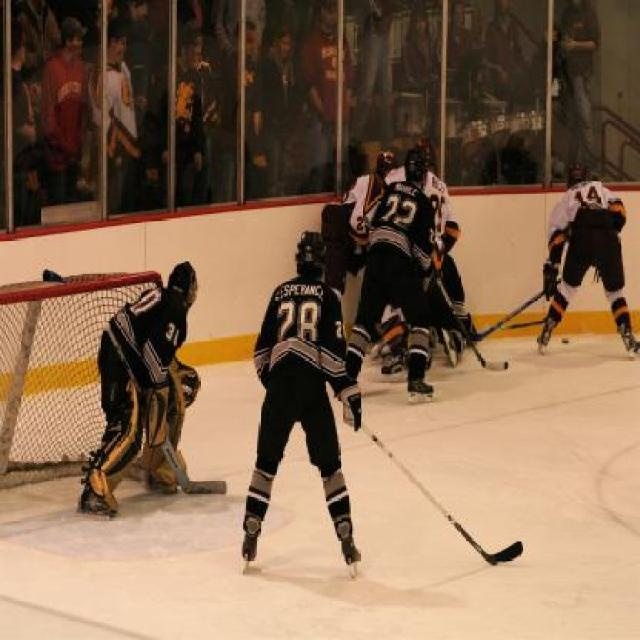obstacle: (0, 0, 603, 242), (240, 225, 368, 583), (73, 259, 198, 521), (344, 146, 436, 403), (532, 178, 640, 359), (321, 143, 396, 300), (423, 170, 480, 355)
